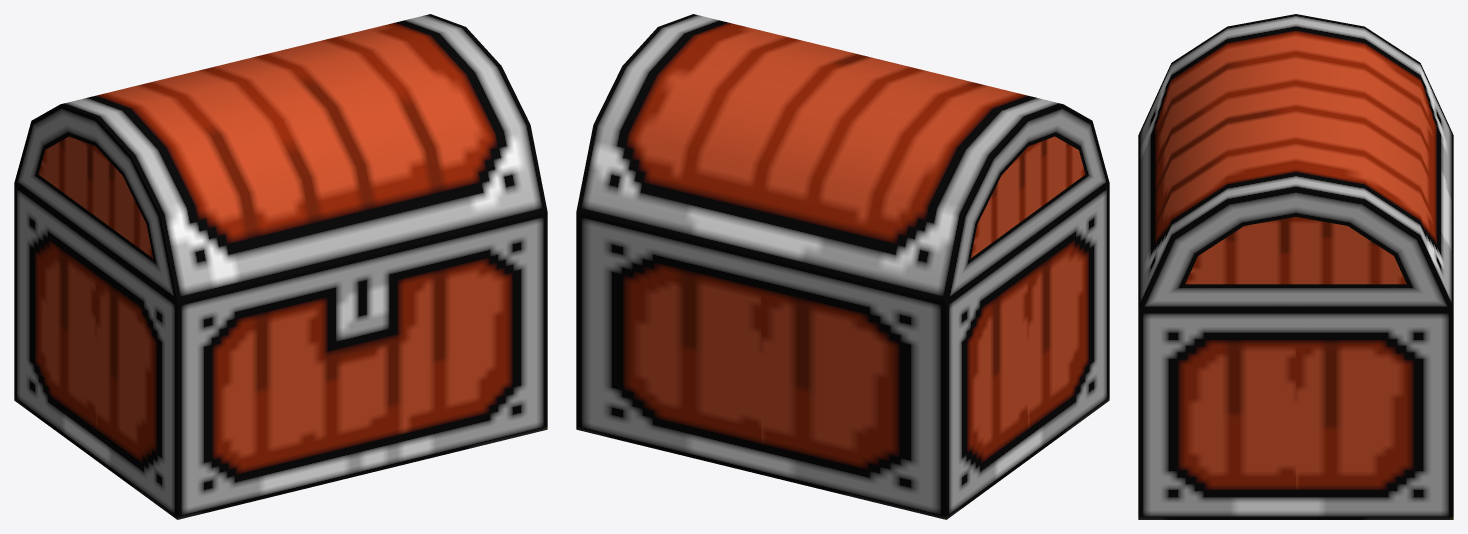
File: deco_deco_chestSmall_closed.FBX
3 renders of one model, left to right at view 1: azimuth 30°, elevation 25°; view 2: azimuth 150°, elevation 25°; view 3: azimuth 270°, elevation 25°, orthographic. The views are drawn at different scales.
Parts seen in each view (by area): view 1: deco_deco_chestSmall_closed; view 2: deco_deco_chestSmall_closed; view 3: deco_deco_chestSmall_closed.
Boxes of the visible parts, <box> form: deco_deco_chestSmall_closed: <box>14,14,547,519</box>; deco_deco_chestSmall_closed: <box>576,14,1109,519</box>; deco_deco_chestSmall_closed: <box>1138,14,1453,519</box>.
Bounding box in the file's own units: 1.55 × 1.37 × 1.18.
Materials: 1 (1 with a texture image).
